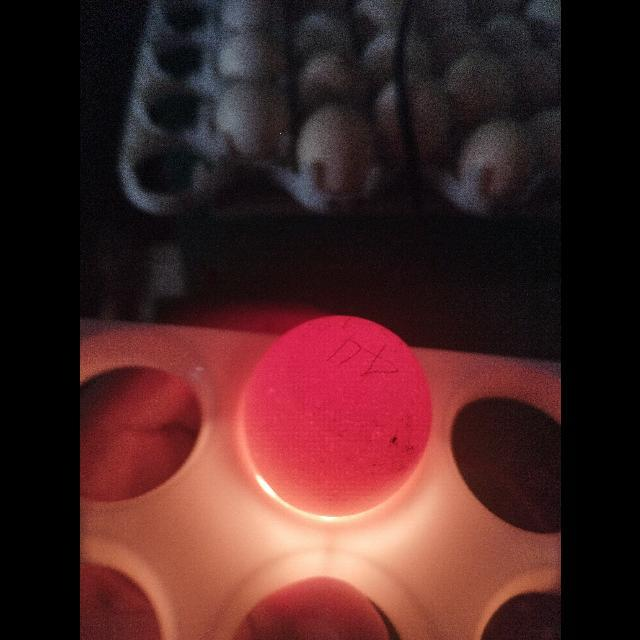Infertile: (239, 312, 437, 524)
